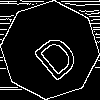D: (25, 25, 83, 83)
